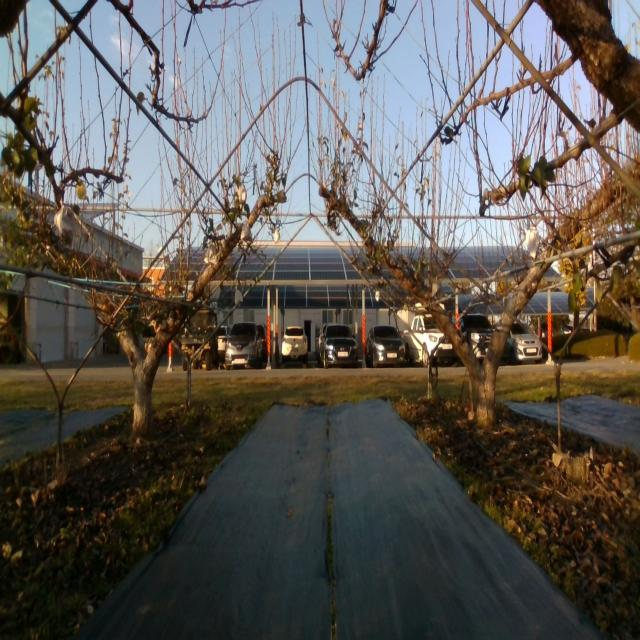pearbags: (54, 205, 74, 247), (526, 225, 540, 259), (206, 244, 217, 265), (237, 184, 247, 204), (241, 223, 252, 241)
